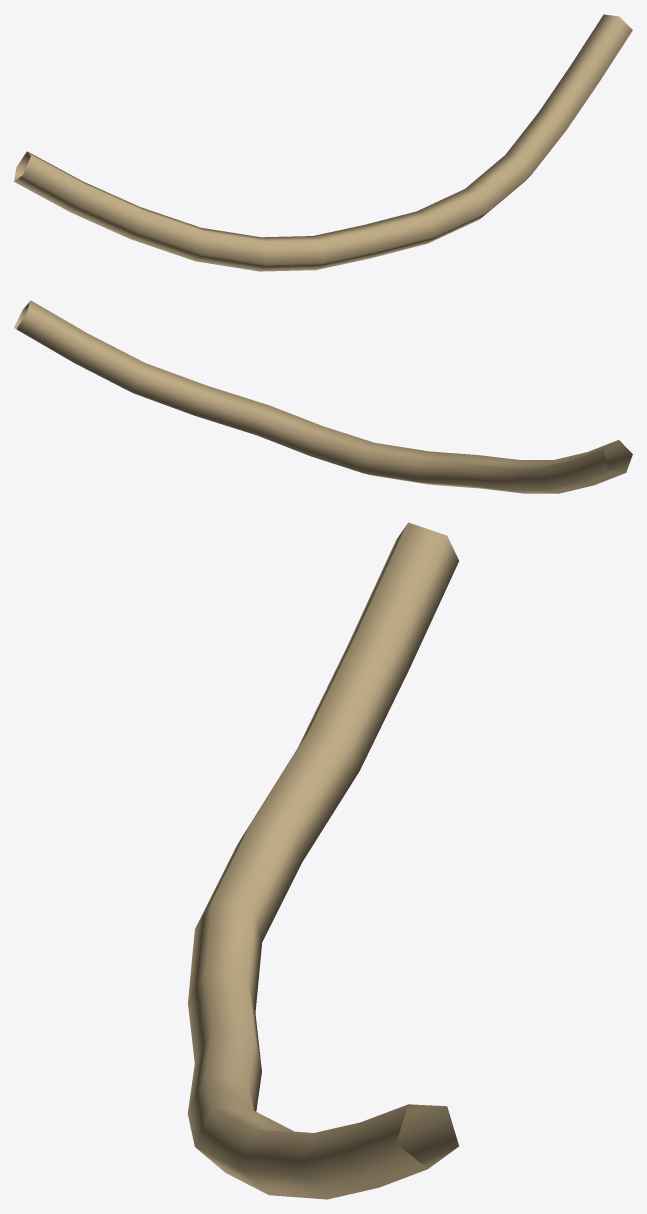
Rendered from bridge_rope_04.fbx.
3 views of the same model, one above another, from view 1: azimuth 30°, elevation 25°; view 2: azimuth 150°, elevation 25°; view 3: azimuth 270°, elevation 25° (orthographic). The views are drawn at different scales.
Visible parts, largest first — view 1: bridge_rope_04; view 2: bridge_rope_04; view 3: bridge_rope_04.
Boxes of the visible parts, <box> form: bridge_rope_04: <box>14,14,632,271</box>; bridge_rope_04: <box>14,300,632,493</box>; bridge_rope_04: <box>187,522,458,1199</box>.
Bounding box in the file's own units: 122 × 26.75 × 23.4.
